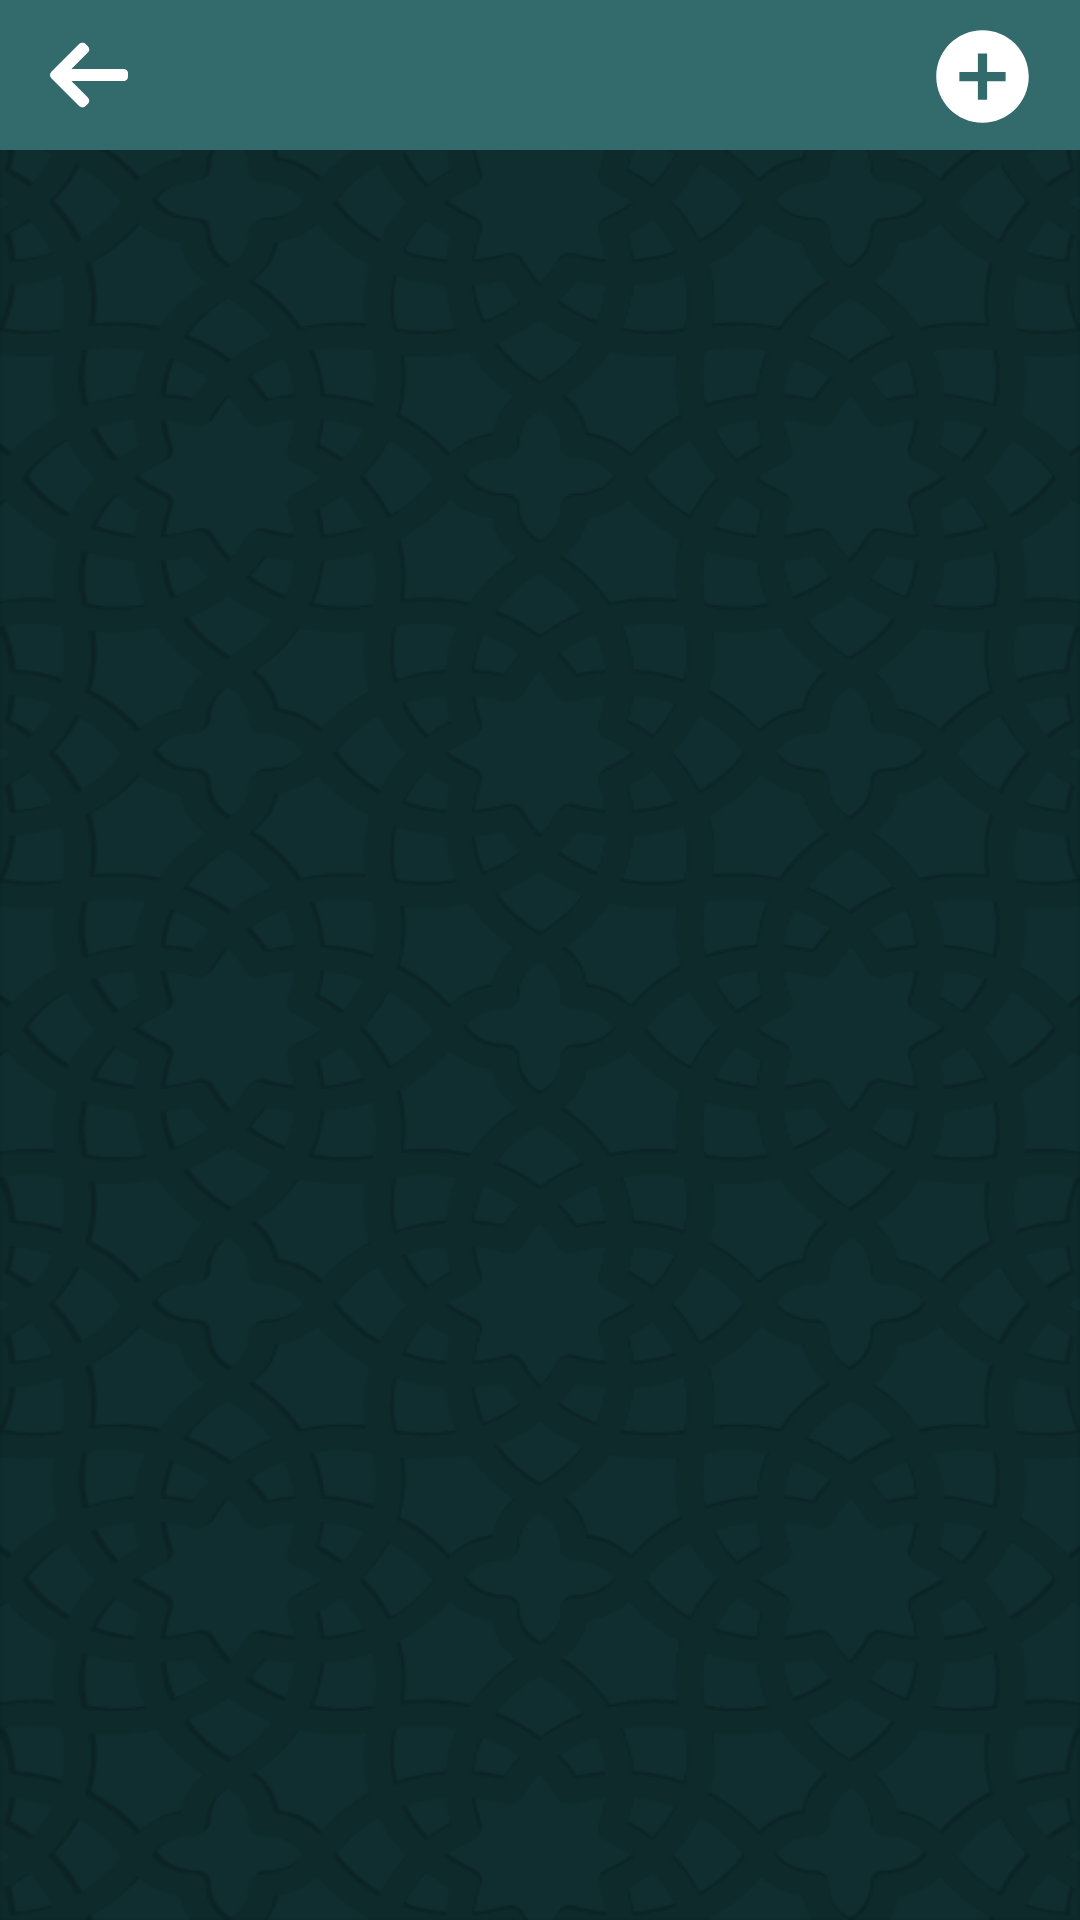

Named icons in this screenshot (1080*1920) and their bounding boxes, (x1, y1, x2, y2):
add circle: (936, 30, 1029, 123)
back: (50, 42, 128, 108)
